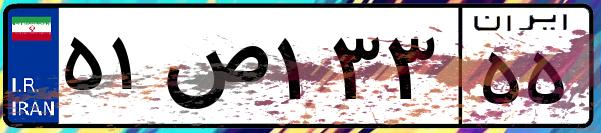1: (270, 28, 330, 110), (110, 28, 158, 98)
3: (385, 28, 445, 110), (330, 28, 385, 110)
5: (57, 26, 110, 100), (475, 38, 525, 113), (525, 38, 570, 115)
ص: (158, 20, 270, 120)
